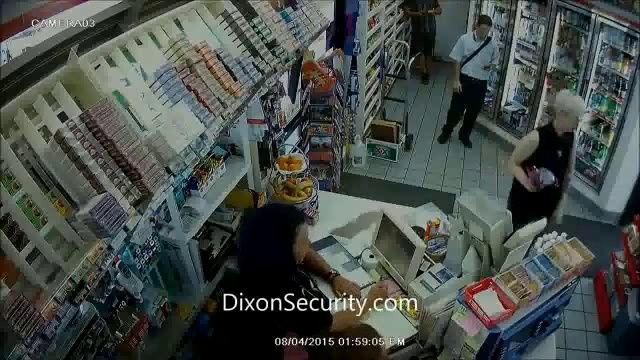normal: (222, 197, 389, 349), (509, 89, 582, 250), (438, 14, 495, 151), (400, 1, 447, 85)
